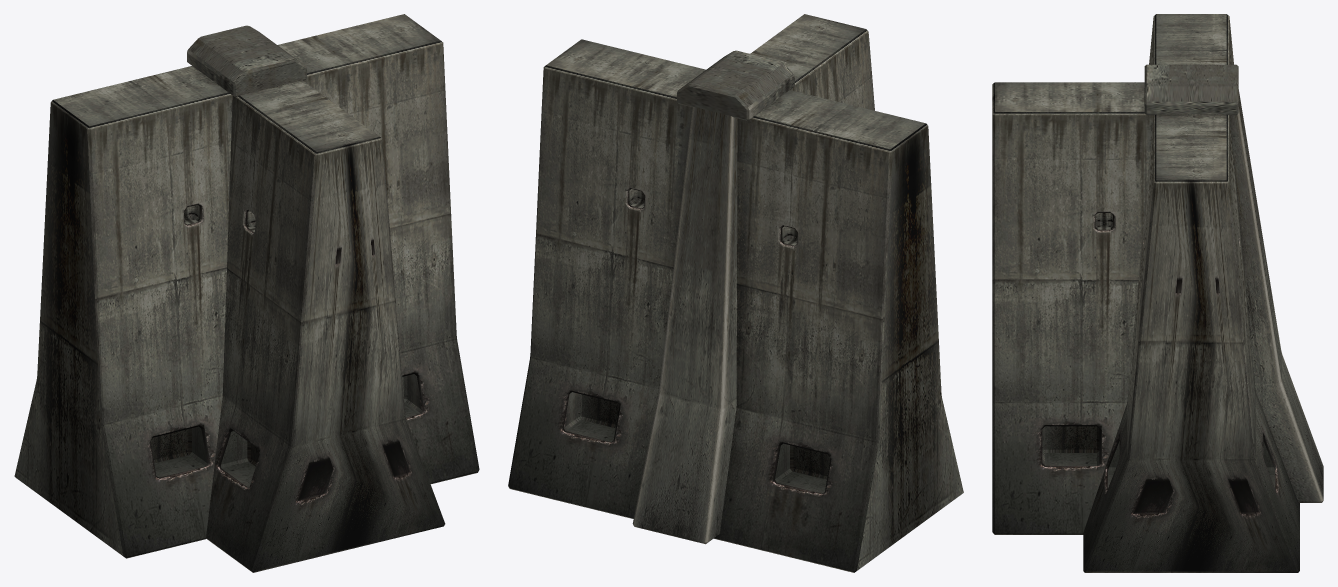
The model's file is junction.fbx.
3 renders of one model, left to right at view 1: azimuth 30°, elevation 25°; view 2: azimuth 150°, elevation 25°; view 3: azimuth 270°, elevation 25°, orthographic. The views are drawn at different scales.
Parts seen in each view (by area): view 1: Cube_cuts_2, Cube_cuts, Cube_1; view 2: Cube_cuts_2, Cube, Cube_cuts, Cube_1; view 3: Cube_cuts_2, Cube_cuts, Cube, Cube_1.
Boxes of the visible parts, x1,y1,x2,y2 form: Cube_cuts_2: (14,14,479,558); Cube_cuts: (206,80,445,572); Cube_1: (187,25,306,97); Cube_cuts_2: (508,39,963,572); Cube: (632,107,737,544); Cube_cuts: (750,14,874,110); Cube_1: (677,50,794,120); Cube_cuts_2: (1083,14,1299,572); Cube_cuts: (992,82,1153,534); Cube: (1144,88,1323,502); Cube_1: (1144,64,1238,115).
Bounding box in the file's own units: 200 × 229 × 166.
Materials: 2 (2 with a texture image).
